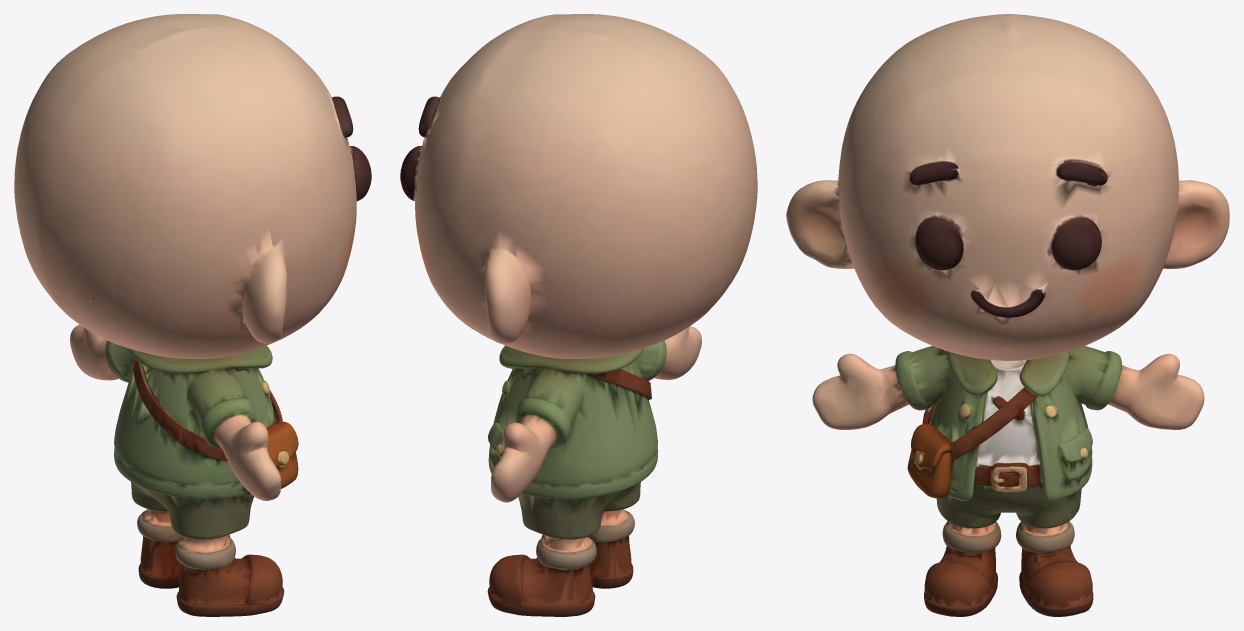
The model's file is hero.glb.
The picture shows the model from 3 angles, left to right: view 1: azimuth 30°, elevation 25°; view 2: azimuth 150°, elevation 25°; view 3: azimuth 270°, elevation 25°; orthographic projection.
Parts seen in each view (by area): view 1: tripo_node_ce7e186b-655d-4b84-b840-451861790cd1; view 2: tripo_node_ce7e186b-655d-4b84-b840-451861790cd1; view 3: tripo_node_ce7e186b-655d-4b84-b840-451861790cd1.
Boxes of the visible parts, x1,y1,x2,y2 form: tripo_node_ce7e186b-655d-4b84-b840-451861790cd1: [14, 14, 371, 616]; tripo_node_ce7e186b-655d-4b84-b840-451861790cd1: [400, 14, 757, 616]; tripo_node_ce7e186b-655d-4b84-b840-451861790cd1: [786, 14, 1229, 616].
Bounding box in the file's own units: 0.5425 × 0.9791 × 0.7073.
1 material, 1 textured.
